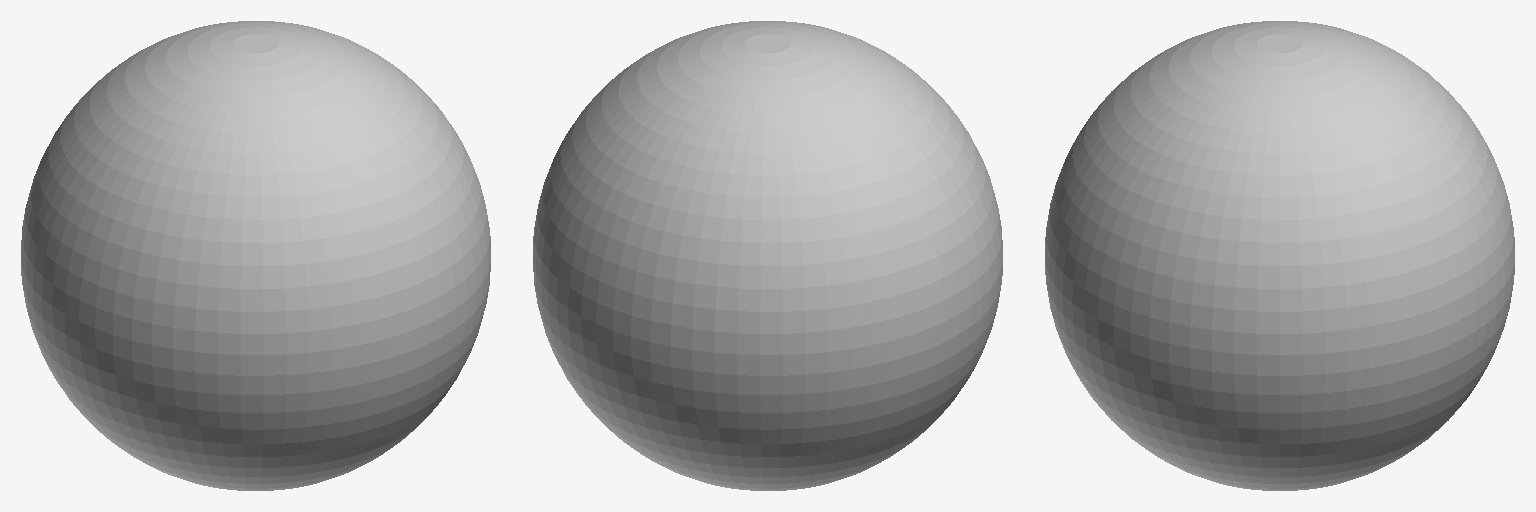
Rendered from ball10.obj.
3 renders of one model, left to right at view 1: azimuth 30°, elevation 25°; view 2: azimuth 150°, elevation 25°; view 3: azimuth 270°, elevation 25°, orthographic.
Visible parts, largest first — view 1: planet_Sphere.013; view 2: planet_Sphere.013; view 3: planet_Sphere.013.
Part boxes in pixels (left/top/right/bottom): planet_Sphere.013: left=21, top=21, right=490, bottom=490; planet_Sphere.013: left=533, top=21, right=1002, bottom=490; planet_Sphere.013: left=1045, top=21, right=1514, bottom=490.
Size of the model in its own units: 0.2214 by 0.2204 by 0.2214.